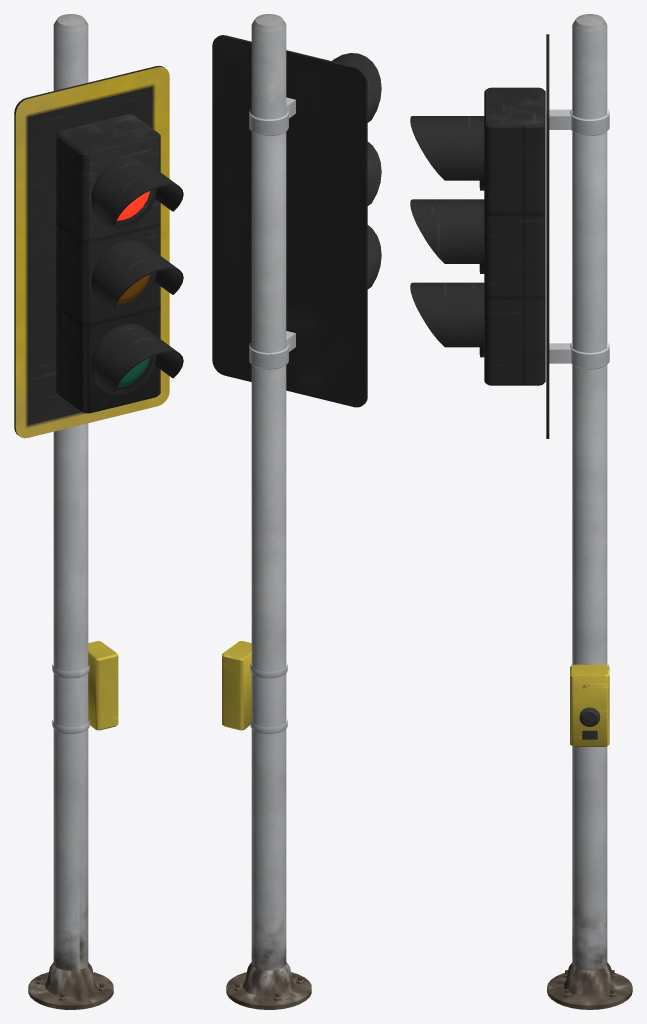
File: traffic-light.glb
3 views of the same model, side by side, from view 1: azimuth 30°, elevation 25°; view 2: azimuth 150°, elevation 25°; view 3: azimuth 270°, elevation 25° (orthographic).
Parts seen in each view (by area): view 1: traffic-light; view 2: traffic-light; view 3: traffic-light.
Part boxes in pixels (bbox=[...]): traffic-light: bbox=[14, 14, 183, 1009]; traffic-light: bbox=[212, 14, 381, 1009]; traffic-light: bbox=[410, 14, 632, 1009].
Size of the model in its own units: 0.5801 by 3.51 by 0.7258.
4 materials, 1 textured.
